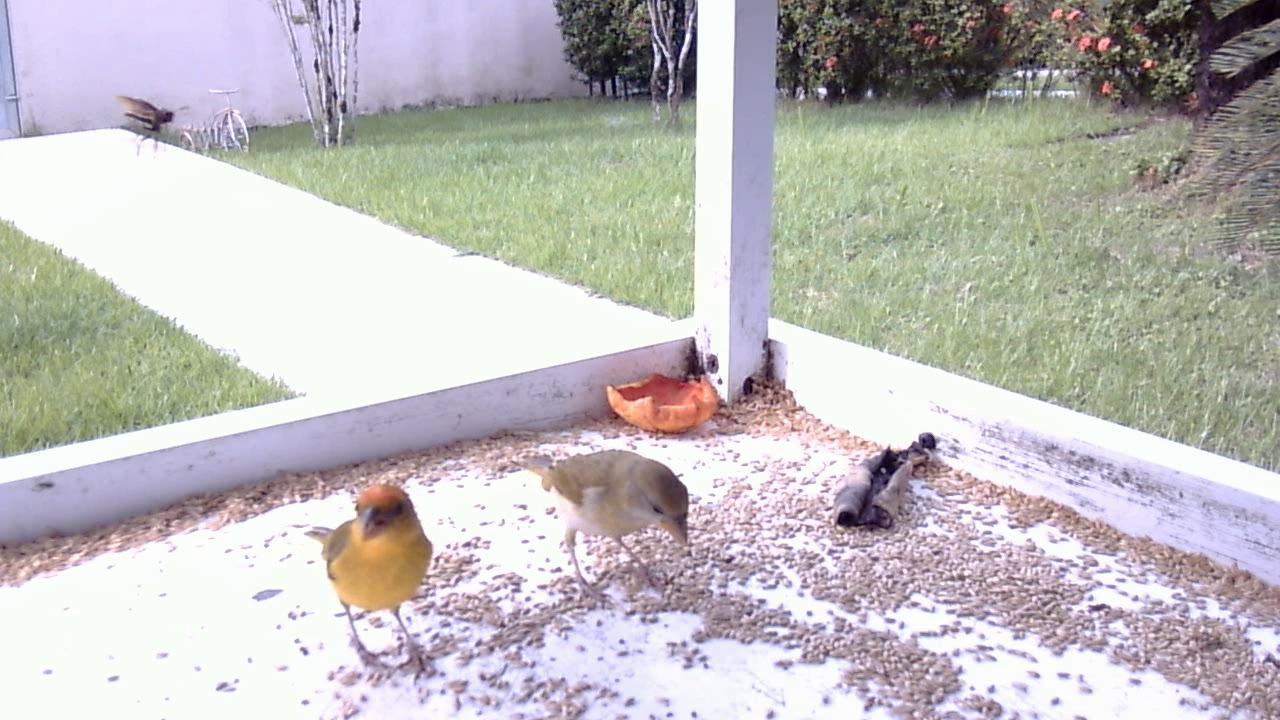canario_do_amazonas: (293, 471, 444, 688), (515, 444, 695, 616)
